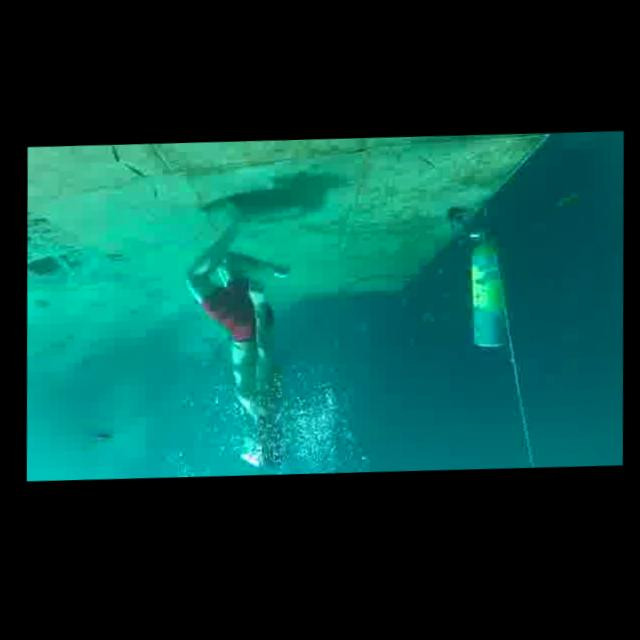human: (175, 192, 299, 476)
